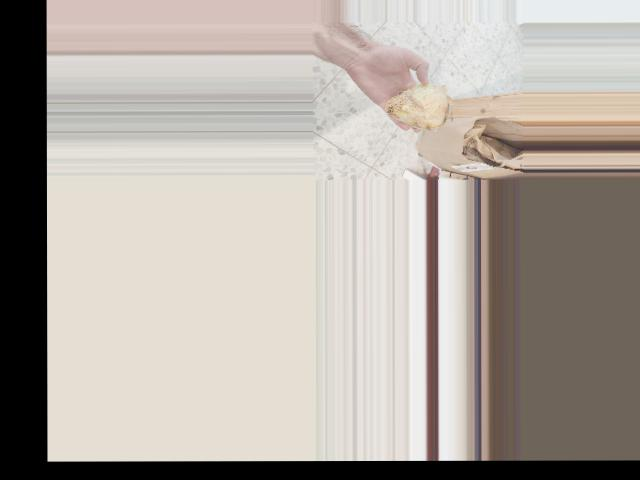onion: (381, 75, 454, 133)
